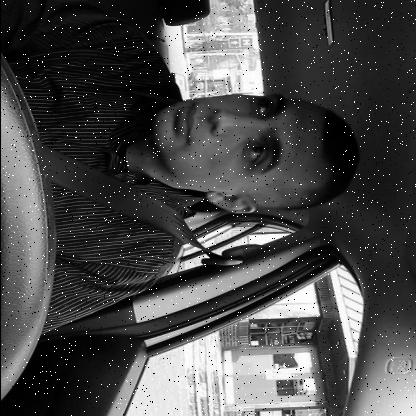seatbelt: (0, 84, 360, 268)
